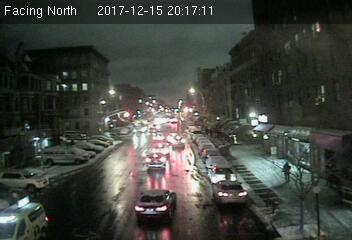car: (1, 195, 50, 239), (134, 187, 176, 217), (211, 180, 250, 206), (207, 163, 237, 184), (144, 152, 169, 172), (150, 141, 171, 155), (170, 135, 186, 149), (150, 132, 165, 144)
pedestrian: (281, 160, 293, 183)
